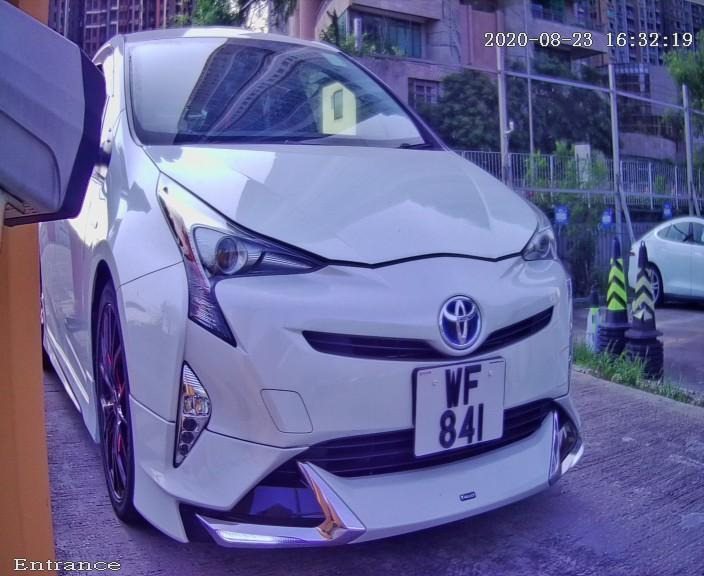License Plate: (406, 337, 516, 474)
